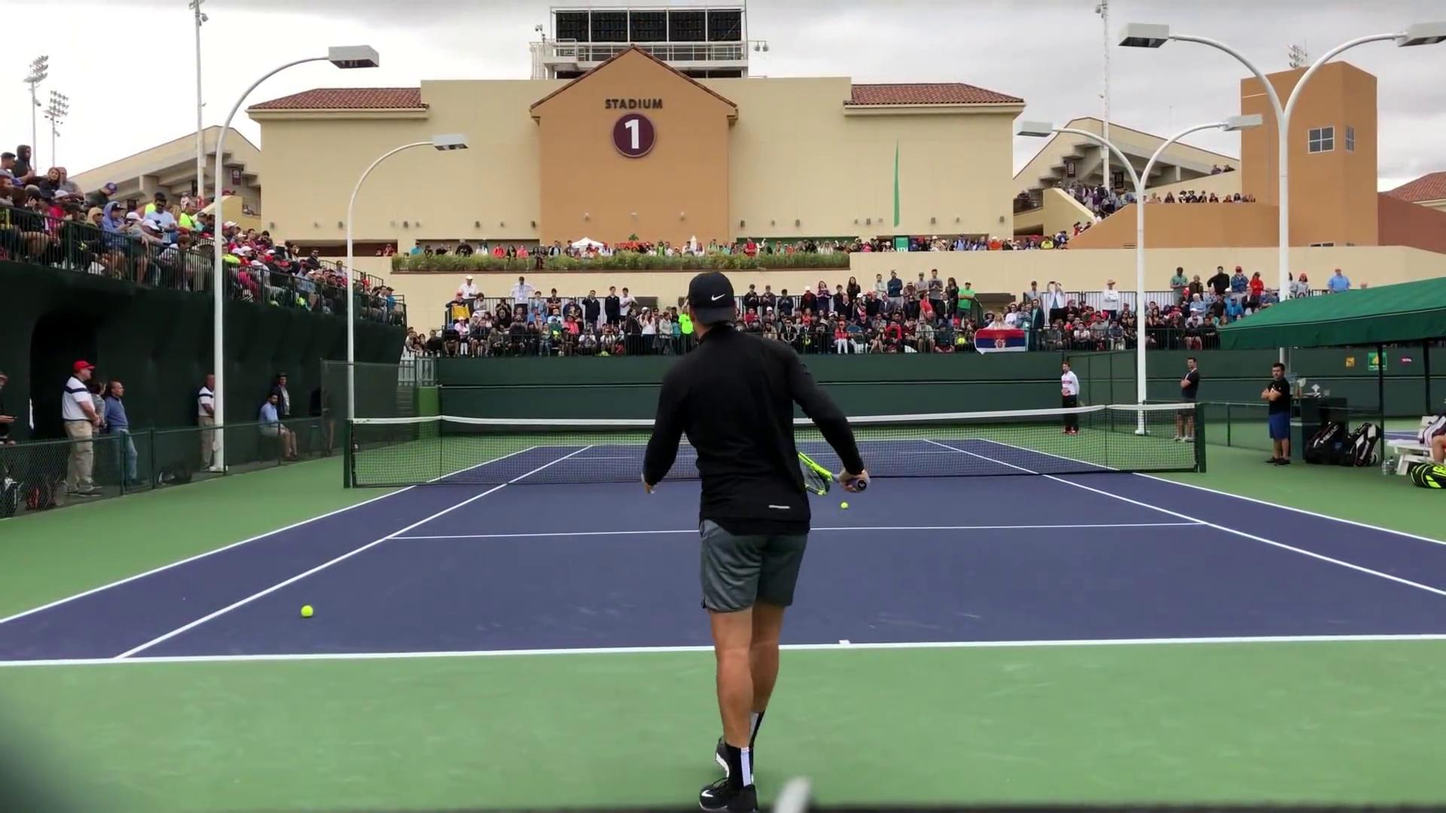ball: (298, 604, 314, 618), (840, 502, 847, 509)
